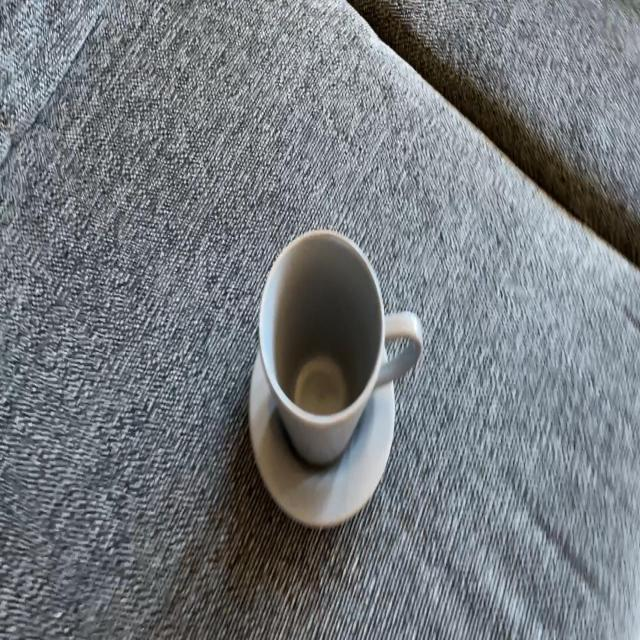cup: (259, 229, 423, 469)
